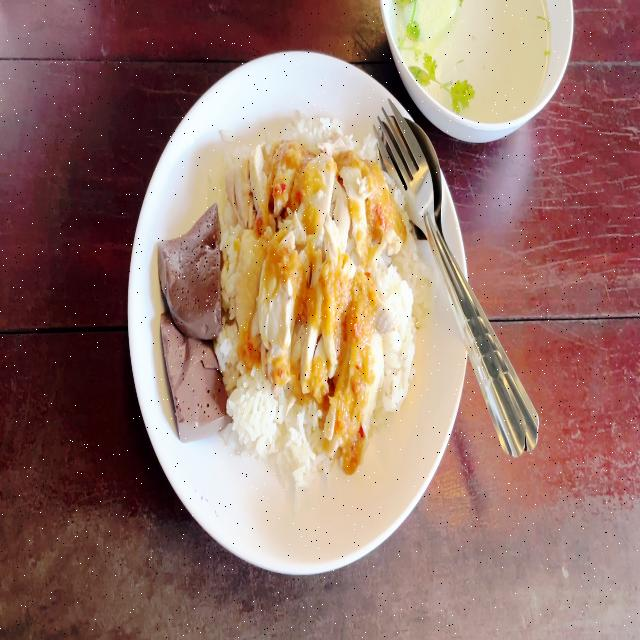boiled_chicken: (224, 154, 369, 376)
boiled_chicken_blood_jelly: (158, 306, 230, 437), (160, 209, 219, 336)
chicken_rice: (156, 120, 416, 486)
